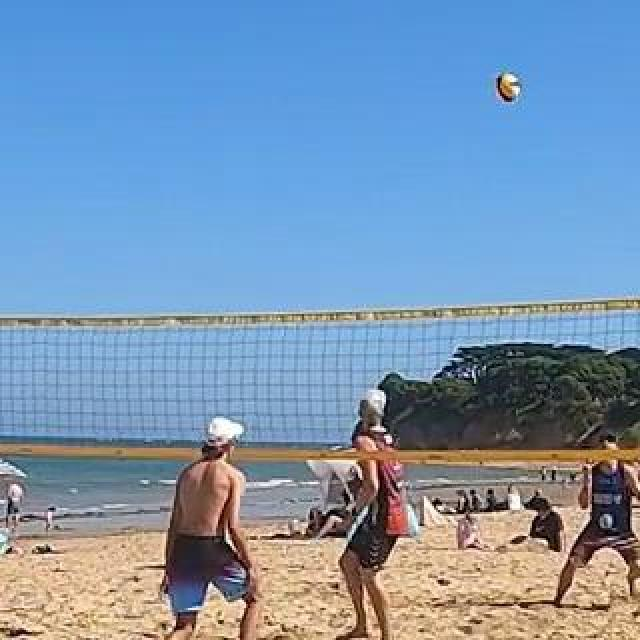volleyball: (496, 75, 520, 103)
